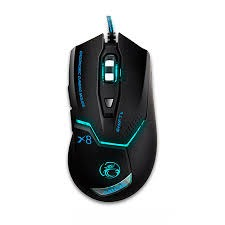mouse: (61, 26, 169, 203)
